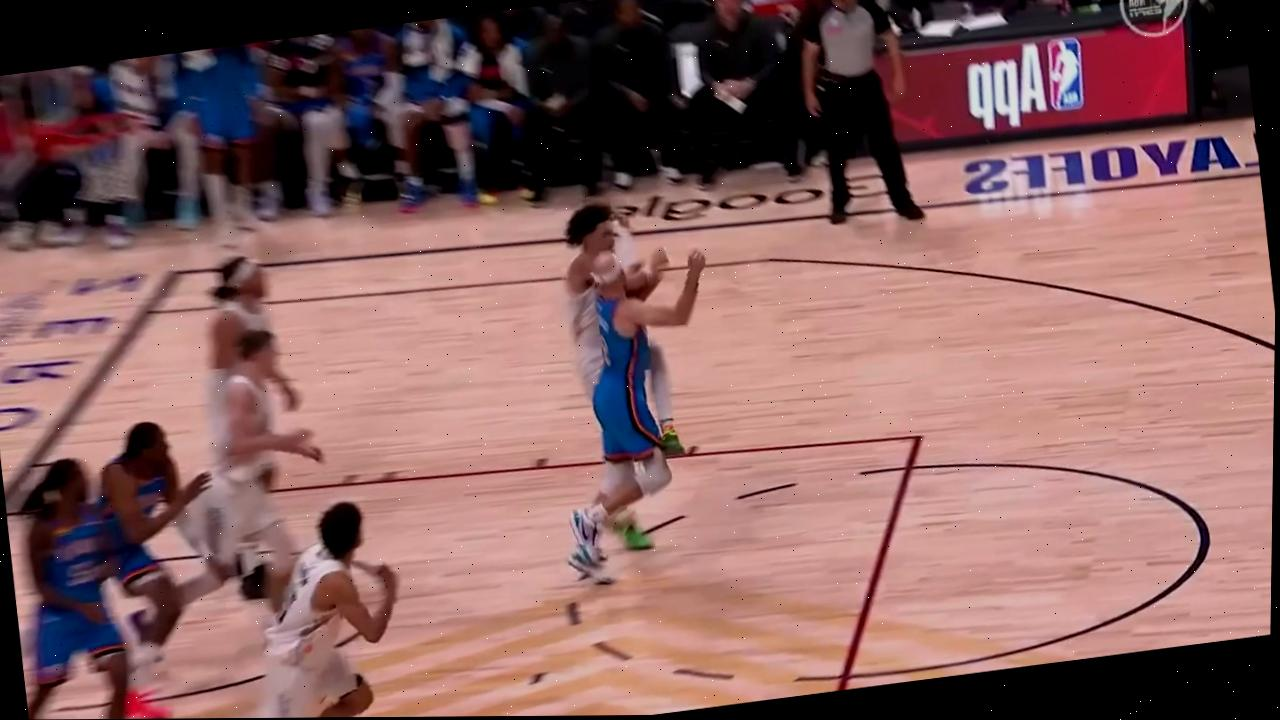foul: (489, 172, 751, 611)
